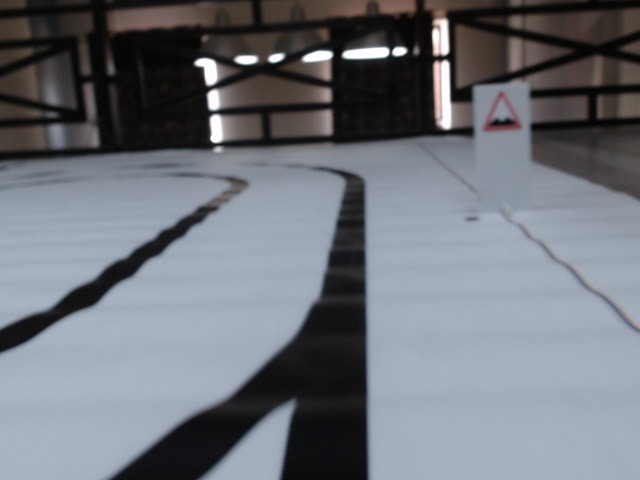Nerov: (485, 90, 522, 135)
